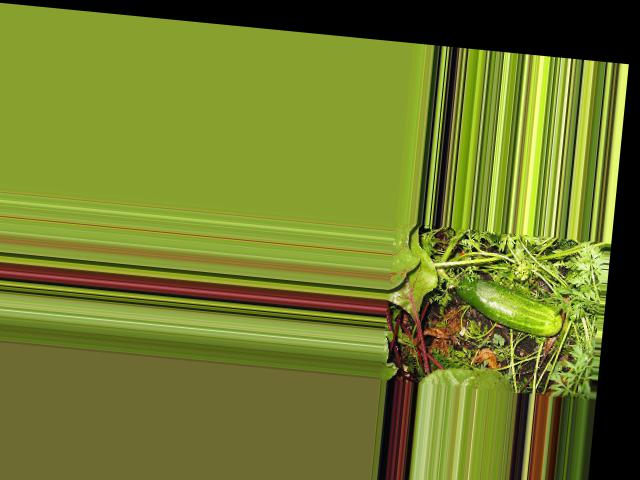cucumber: (451, 273, 563, 337)
